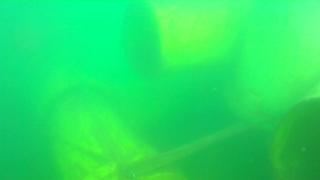pipe: (33, 74, 183, 180), (221, 1, 320, 131), (120, 1, 240, 86), (269, 79, 320, 180)
